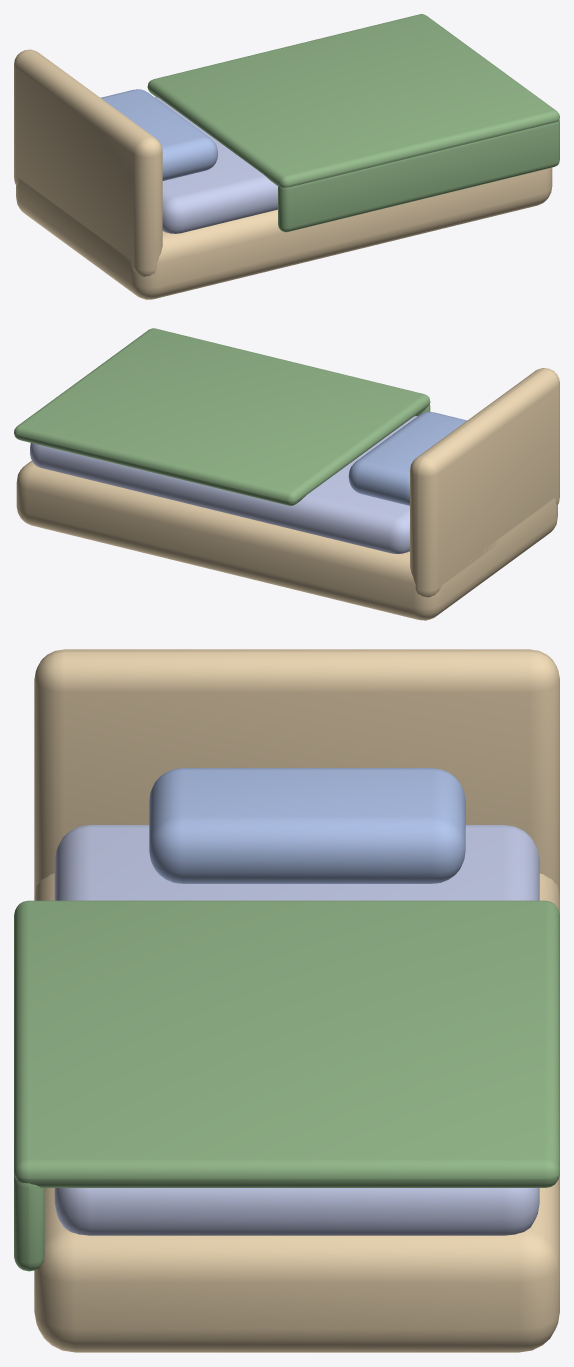
The model's file is bed.glb.
3 renders of one model, top to bottom at view 1: azimuth 30°, elevation 25°; view 2: azimuth 150°, elevation 25°; view 3: azimuth 270°, elevation 25°, orthographic. The views are drawn at different scales.
Visible parts, largest first — view 1: bed; view 2: bed; view 3: bed.
Part boxes in pixels (box(x1,y1,x2,y2)): bed: box(14, 14, 559, 299); bed: box(14, 328, 559, 620); bed: box(14, 649, 559, 1352).
Bounding box in the file's own units: 1.87 × 0.7 × 1.07.
